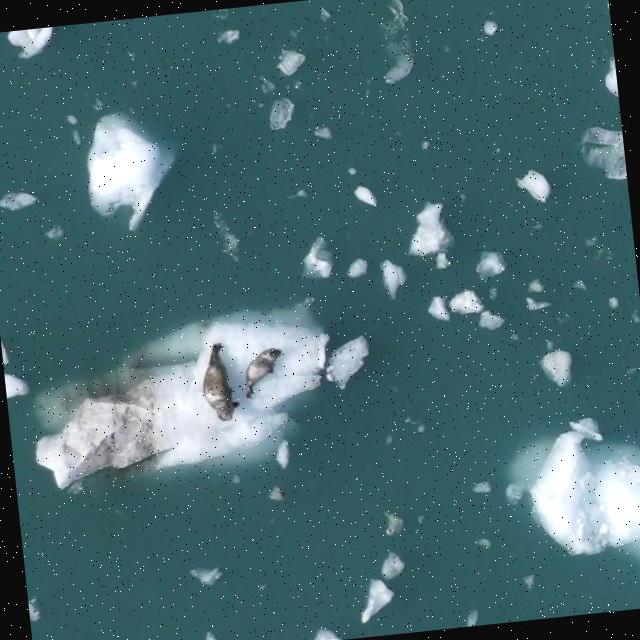seal: (203, 340, 239, 420), (243, 346, 281, 397)
